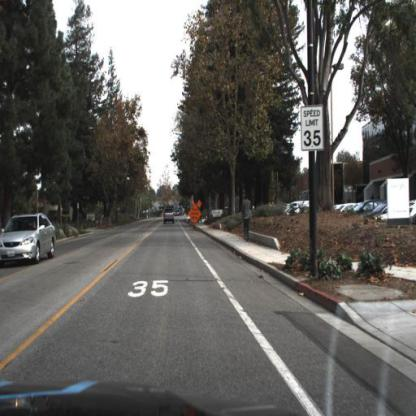car: (1, 213, 57, 269), (336, 202, 389, 225), (162, 207, 177, 229), (174, 206, 186, 222)
pedestrian: (242, 192, 252, 243), (242, 194, 252, 241)
